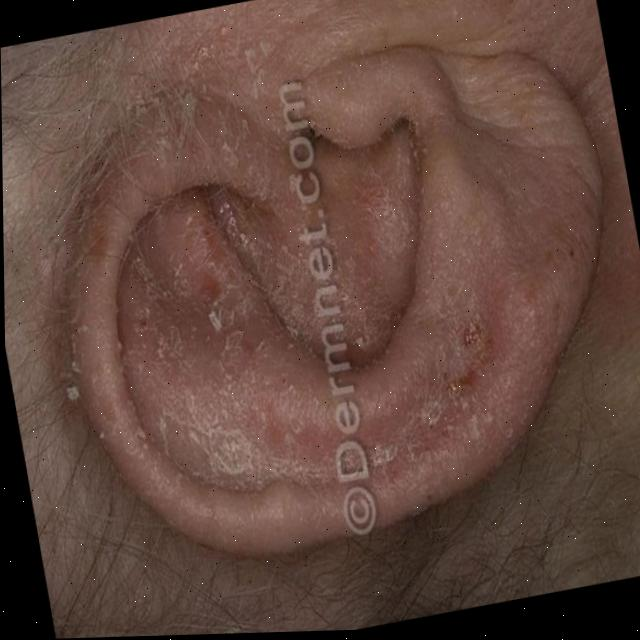Eczema: (5, 0, 545, 588)
